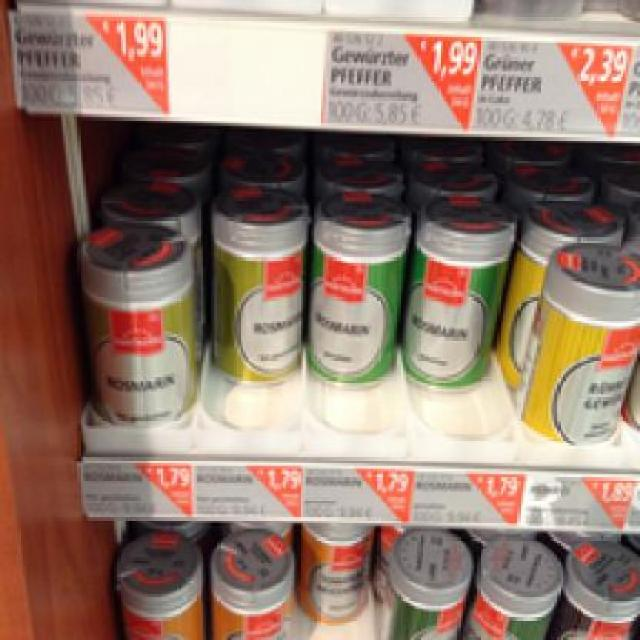Spices: (72, 217, 195, 423), (514, 243, 637, 443), (408, 192, 512, 388), (206, 183, 306, 383), (314, 186, 409, 383), (377, 525, 472, 638), (108, 528, 201, 638), (471, 528, 560, 638), (206, 528, 292, 638)
